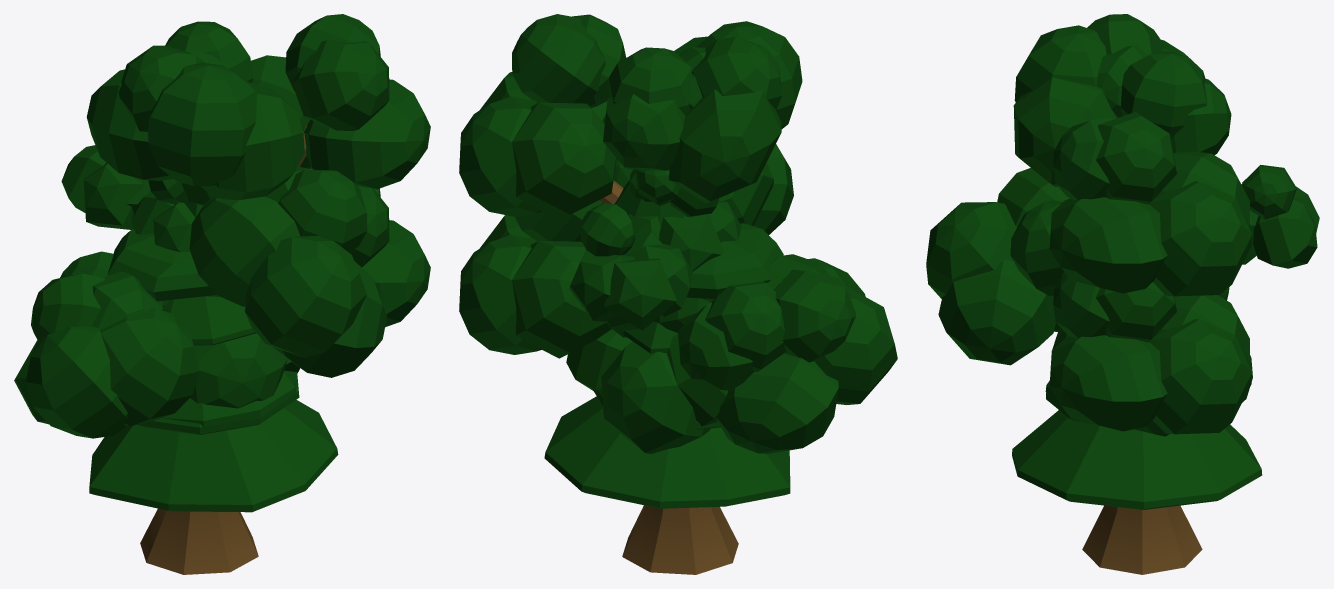
File: Assets_Trees.fbx
3 renders of one model, left to right at view 1: azimuth 30°, elevation 25°; view 2: azimuth 150°, elevation 25°; view 3: azimuth 270°, elevation 25°, orthographic. The views are drawn at different scales.
Parts seen in each view (by area): view 1: Tree03, Tree07, Tree05, Tree04, Tree01, Tree06; view 2: Tree03, Tree07, Tree04, Tree05, Tree01; view 3: Tree03, Tree07, Tree05.
Boxes of the visible parts, box(x1,y1,x2,y2) form: Tree03: box(14, 14, 430, 574); Tree07: box(61, 145, 430, 377); Tree05: box(89, 199, 338, 512); Tree04: box(131, 179, 300, 408); Tree01: box(107, 229, 220, 301); Tree06: box(162, 370, 296, 427); Tree03: box(459, 14, 897, 574); Tree07: box(459, 144, 793, 512); Tree04: box(566, 169, 741, 453); Tree05: box(544, 180, 790, 508); Tree01: box(686, 223, 783, 301); Tree03: box(1013, 14, 1252, 574); Tree07: box(926, 165, 1319, 434); Tree05: box(1012, 392, 1262, 509).
Size of the model in its own units: 4.68 by 5.83 by 4.09.
